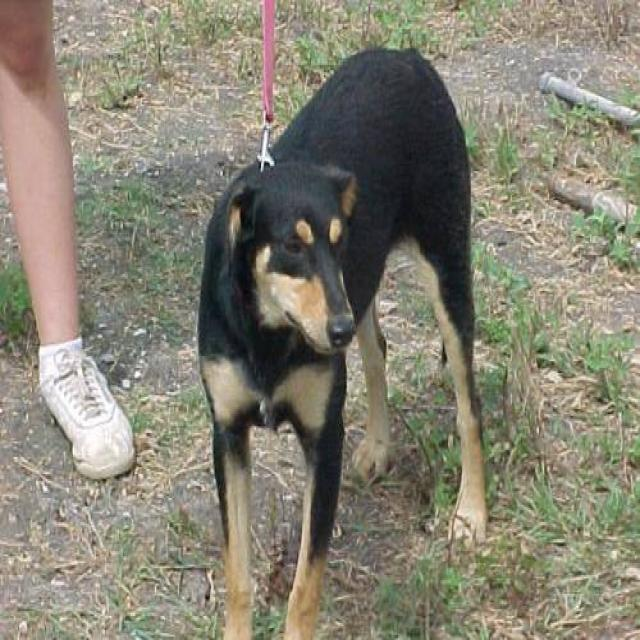dog: (198, 49, 489, 640)
